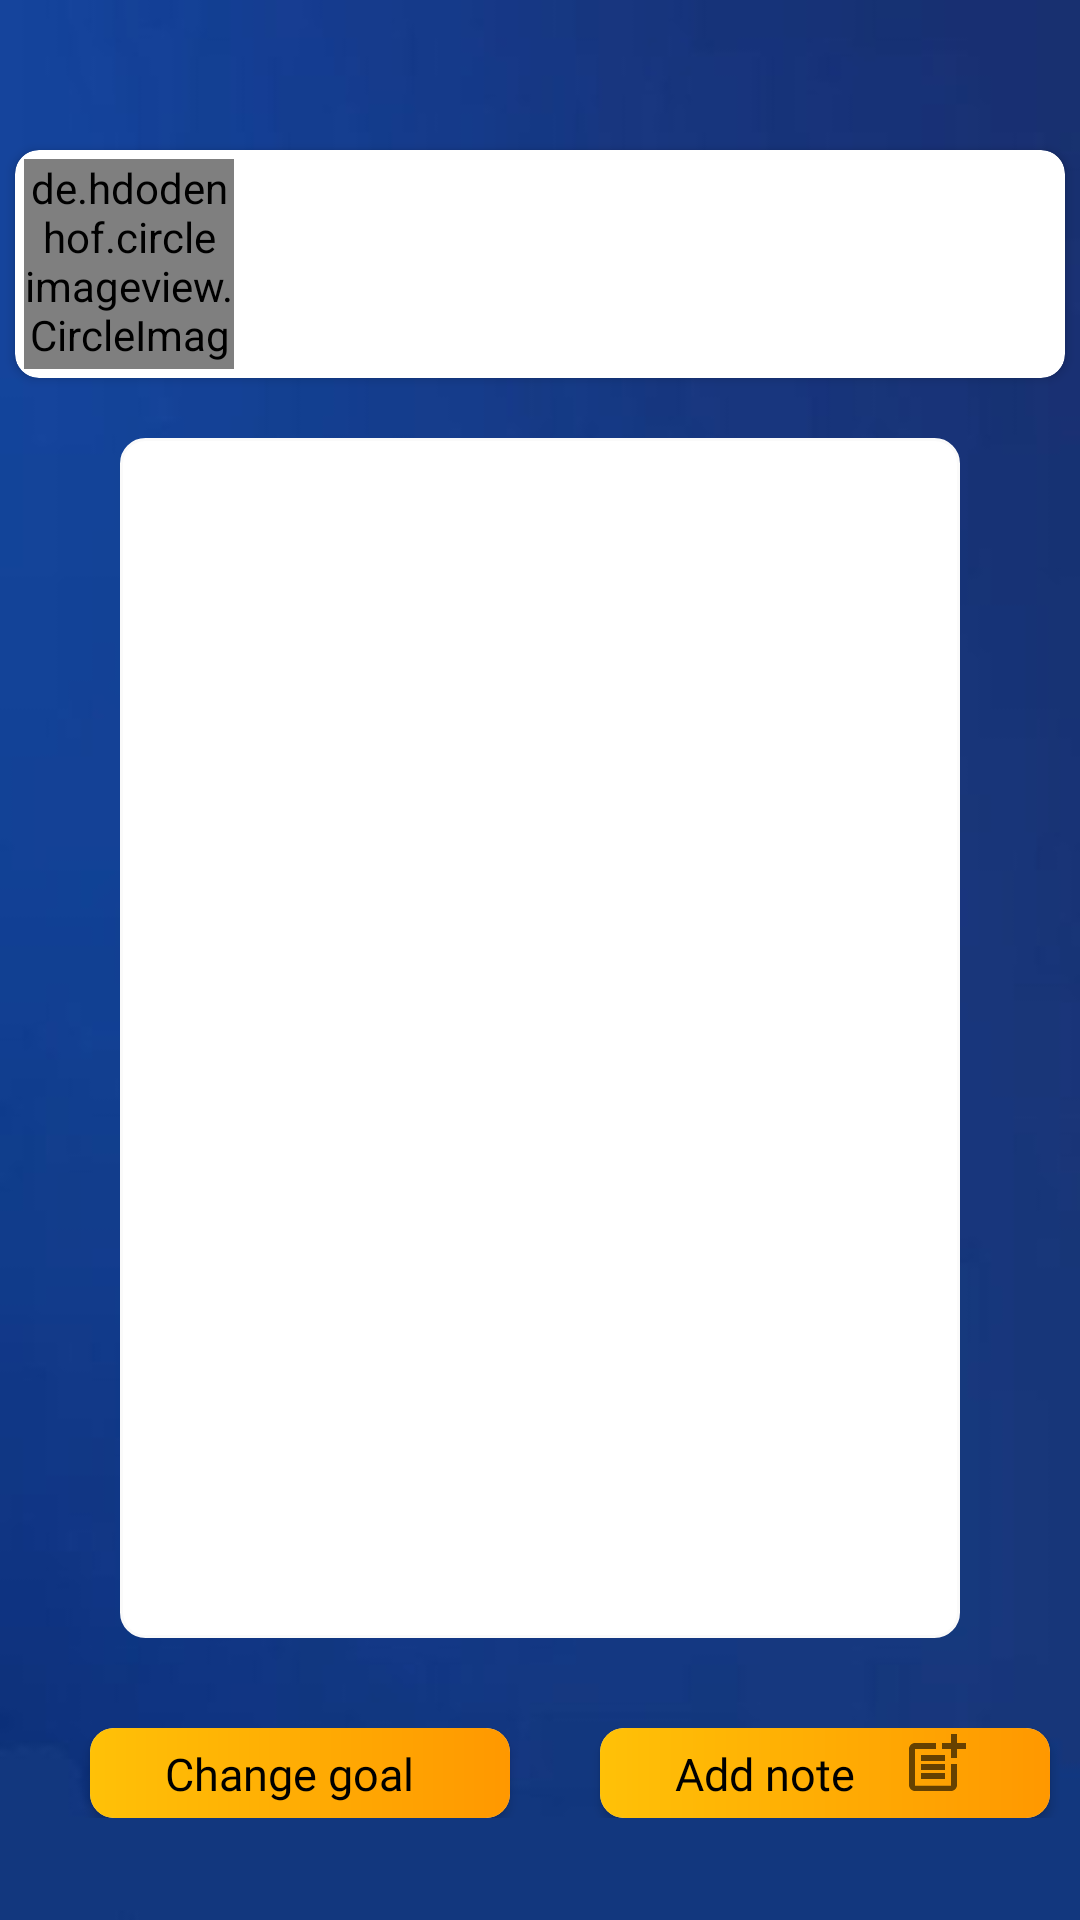

Point at icon controls on the screen. Image size 1080 × 1920, points as (x=x, y=y).
post add: (x=937, y=1762)
